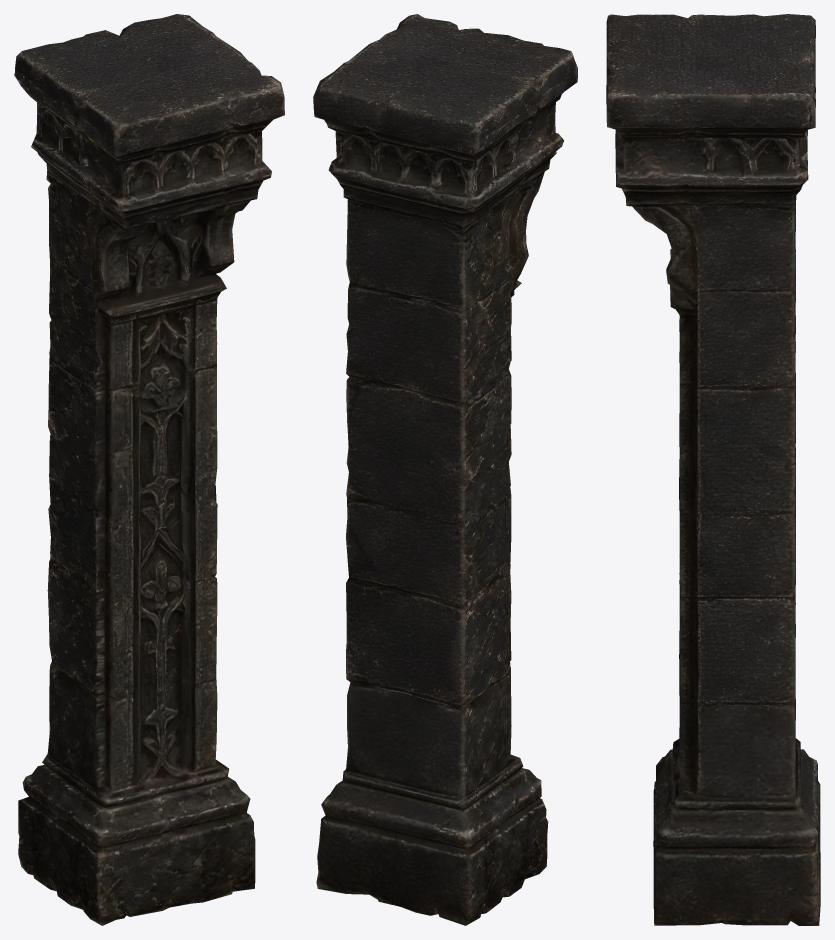
File: hearthjamb.glb
3 renders of one model, left to right at view 1: azimuth 30°, elevation 25°; view 2: azimuth 150°, elevation 25°; view 3: azimuth 270°, elevation 25°, orthographic. The views are drawn at different scales.
Visible parts, largest first — view 1: hearthjamb; view 2: hearthjamb; view 3: hearthjamb.
Part boxes in pixels (<box>): hearthjamb: <box>14,14,284,925</box>; hearthjamb: <box>313,14,577,925</box>; hearthjamb: <box>606,14,820,925</box>.
Size of the model in its own units: 0.5177 by 2.4 by 0.5589.
Materials: 1 (1 with a texture image).
